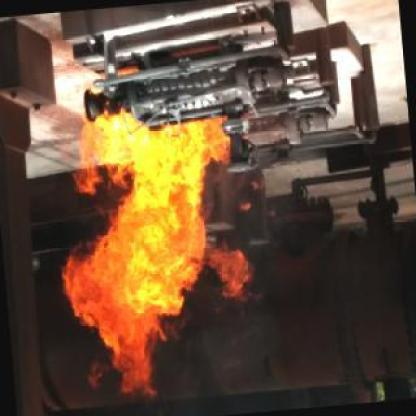Fire: (53, 106, 246, 389)
